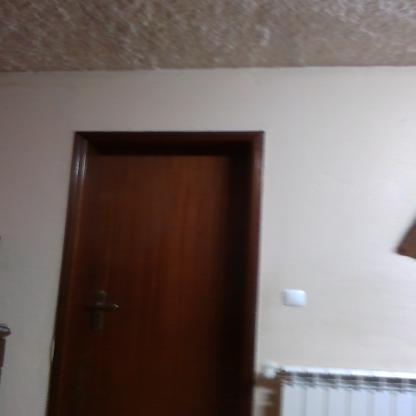closed: (50, 102, 294, 413)
